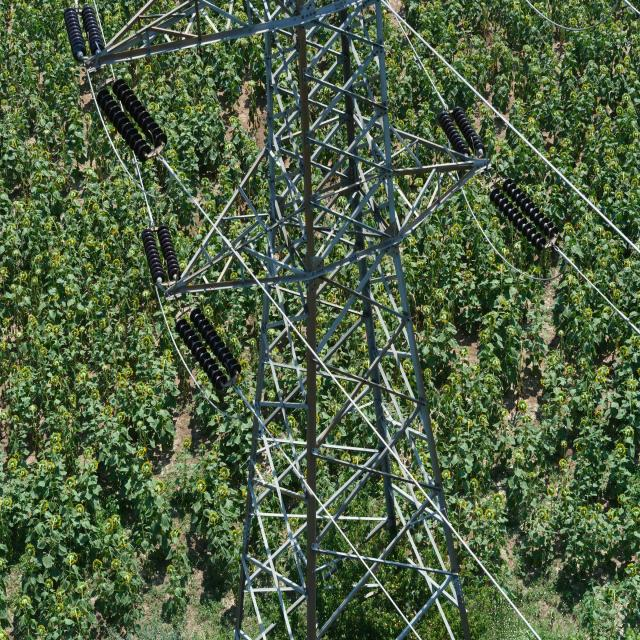direk: (238, 9, 472, 636)
